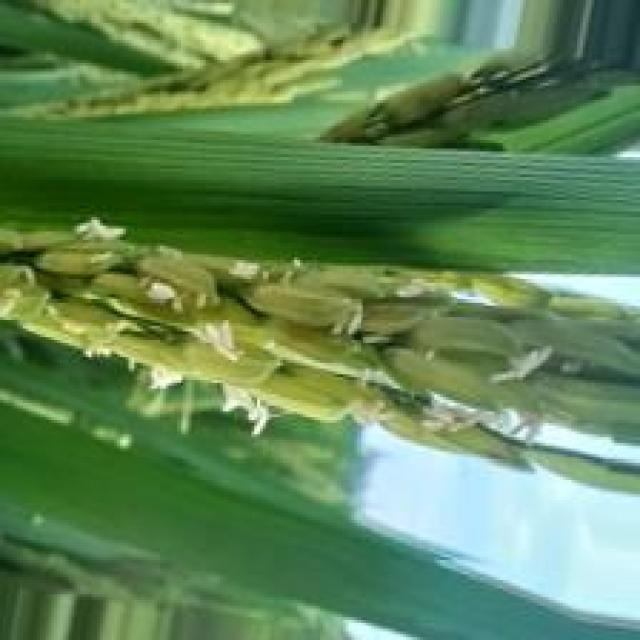HealthyLeaf: (0, 394, 579, 640), (0, 117, 637, 275)
